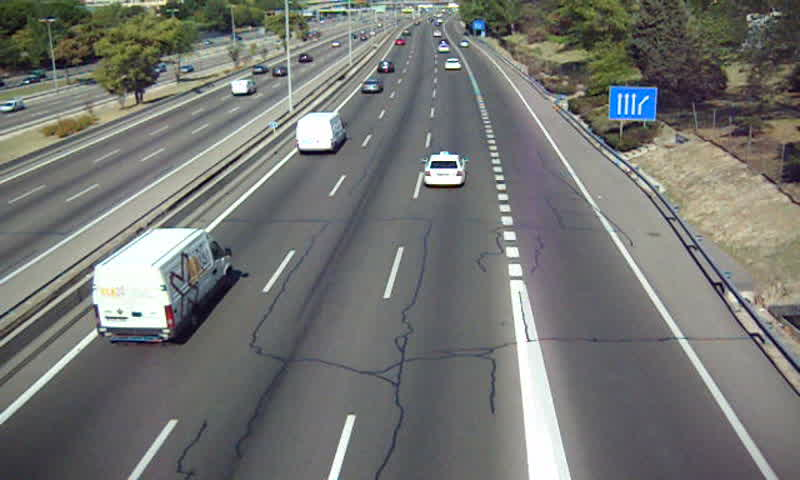car: (424, 152, 468, 186), (359, 79, 382, 96), (377, 59, 394, 75), (443, 58, 462, 72)
van: (91, 227, 232, 343), (295, 112, 346, 153)
